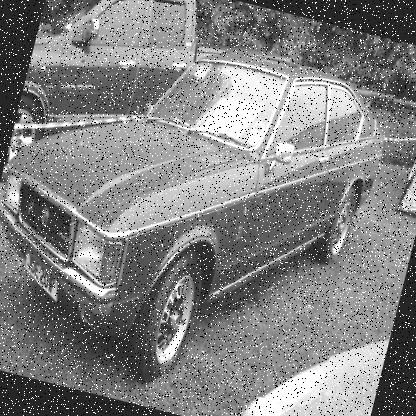Car: (0, 6, 397, 414)
